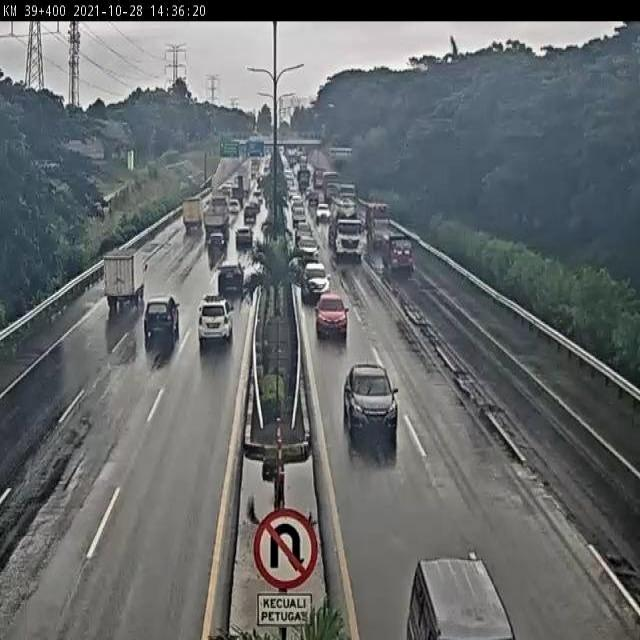Car: (343, 356, 409, 456), (143, 295, 180, 349), (197, 295, 234, 347), (315, 292, 349, 341), (300, 263, 330, 305), (218, 262, 244, 296), (235, 225, 252, 247)
Truck: (98, 240, 147, 310), (332, 206, 369, 266), (196, 190, 234, 242), (179, 197, 209, 235)
